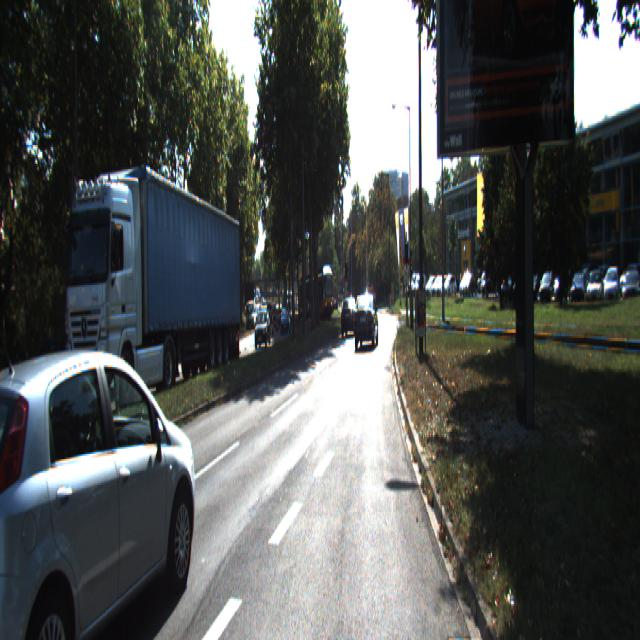Car: (0, 331, 199, 638), (64, 156, 244, 433), (303, 270, 334, 322), (353, 293, 378, 350), (255, 310, 272, 350), (341, 298, 358, 337)
